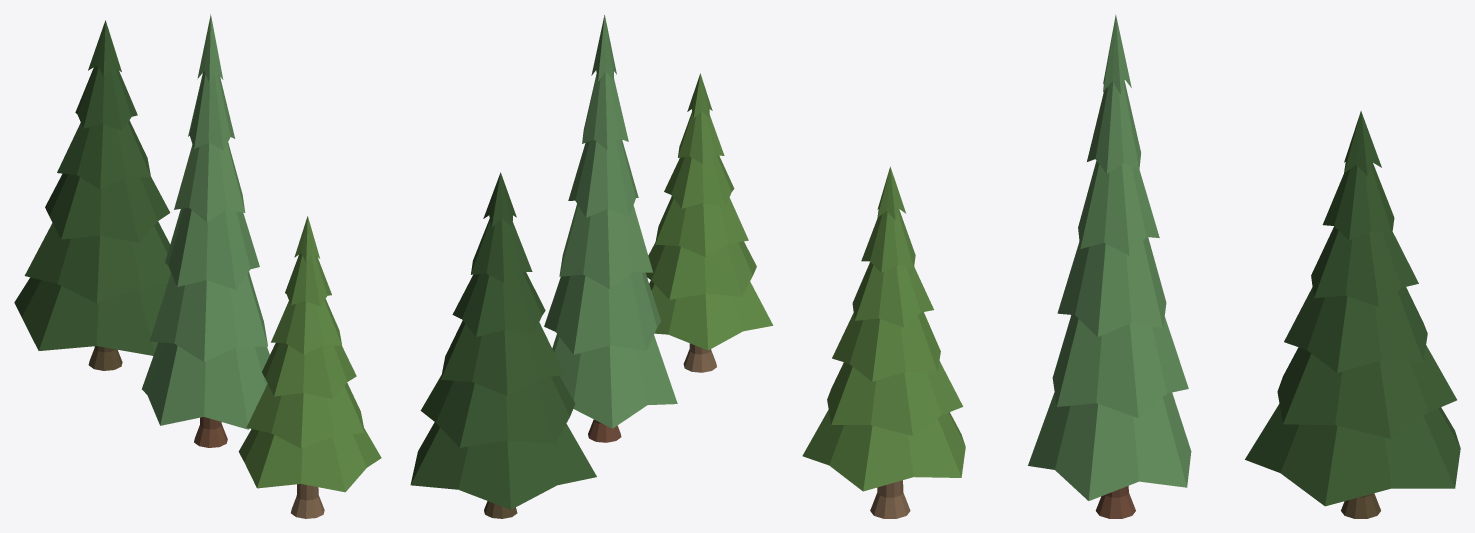
3 views of the same model, side by side, from view 1: azimuth 30°, elevation 25°; view 2: azimuth 150°, elevation 25°; view 3: azimuth 270°, elevation 25° (orthographic). The views are drawn at different scales.
Visible parts, largest first — view 1: Tree2_2, Tree1_0, Tree3_1; view 2: Tree2_2, Tree1_0, Tree3_1; view 3: Tree2_2, Tree1_0, Tree3_1.
Boxes of the visible parts, x1,y1,x2,y2 form: Tree2_2: [14, 20, 170, 370]; Tree1_0: [142, 14, 269, 447]; Tree3_1: [238, 216, 381, 518]; Tree2_2: [410, 172, 596, 518]; Tree1_0: [544, 15, 677, 442]; Tree3_1: [646, 73, 773, 372]; Tree2_2: [1245, 111, 1460, 518]; Tree1_0: [1028, 14, 1191, 518]; Tree3_1: [802, 166, 965, 518].
Size of the model in its own units: 7.49 by 18.57 by 22.3.
